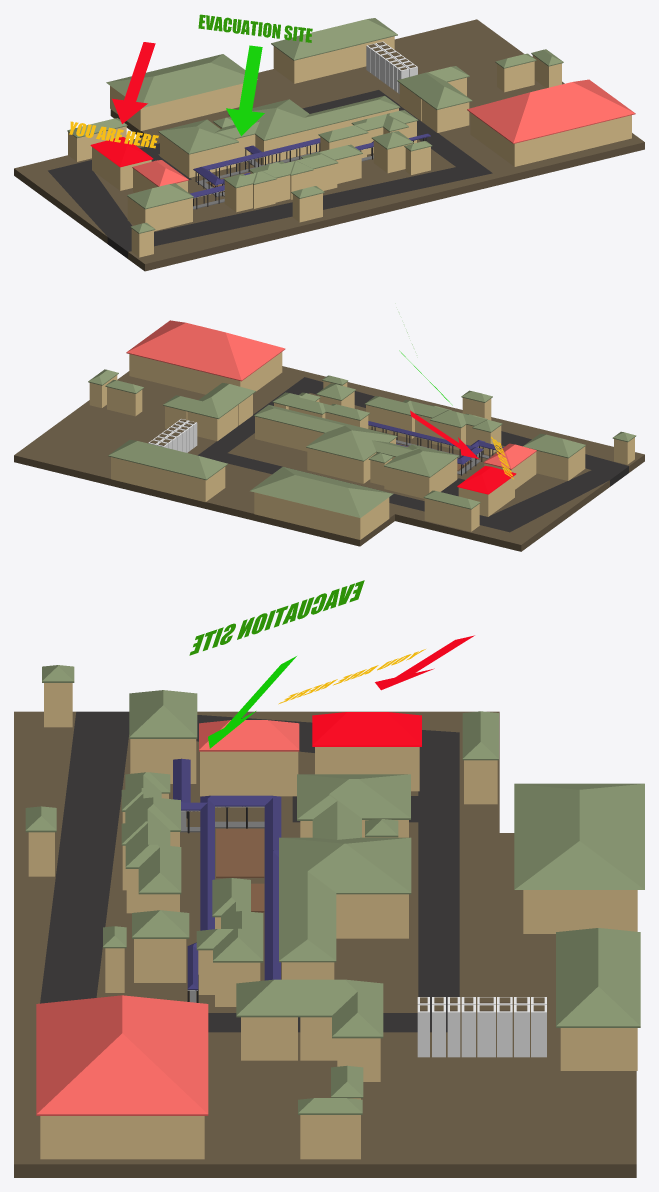
The model's file is ITBUILDING.glb.
The picture shows the model from 3 angles, top to bottom: view 1: azimuth 30°, elevation 25°; view 2: azimuth 150°, elevation 25°; view 3: azimuth 270°, elevation 25°; orthographic projection. The views are drawn at different scales.
Parts seen in each view (by area): view 1: Toposolid Grassland - 1200mm [352516], Toposolid Grassland - 1200mm [354195], Basic Roof Generic - 125mm [387914], Basic Roof Generic - 125mm [384035], Basic Roof Generic - 125mm [378573], Basic Wall Generic - 200mm [355787], Basic Roof Generic - 125mm [385592], Basic Wall Generic - 200mm [355672], Basic Roof Generic - 125mm [385698], Basic Wall Generic - 200mm [355773], Basic Roof Generic - 125mm [387351], Plane.001 (+37 smaller); view 2: Toposolid Grassland - 1200mm [352516], Toposolid Grassland - 1200mm [354195], Basic Roof Generic - 125mm [387914], Basic Roof Generic - 125mm [384035], Basic Roof Generic - 125mm [378573], Basic Wall Generic - 200mm [355757], Basic Roof Generic - 125mm [385592], Basic Wall Generic - 200mm [355771], Basic Wall Generic - 200mm [355789], Basic Roof Generic - 125mm [385698], Basic Roof Generic - 125mm [387351], Basic Wall Generic - 200mm [357221] (+25 smaller); view 3: Toposolid Grassland - 1200mm [352516], Toposolid Grassland - 1200mm [354195], Basic Roof Generic - 125mm [387914], Basic Roof Generic - 125mm [384035], Basic Roof Generic - 125mm [378573], Basic Roof Generic - 125mm [385592], Basic Wall Generic - 200mm [355788], Basic Roof Generic - 125mm [389243], Basic Roof Generic - 125mm [387351], Basic Roof Generic - 125mm [385698], Basic Wall Generic - 200mm [355719], Basic Wall Generic - 200mm [356699] (+29 smaller).
Part boxes in pixels (<box>): Toposolid Grassland - 1200mm [352516]: <box>14,19,644,271</box>; Toposolid Grassland - 1200mm [354195]: <box>48,90,492,258</box>; Basic Roof Generic - 125mm [387914]: <box>467,79,635,143</box>; Basic Roof Generic - 125mm [384035]: <box>158,96,400,154</box>; Basic Roof Generic - 125mm [378573]: <box>106,54,257,107</box>; Basic Wall Generic - 200mm [355787]: <box>516,115,631,166</box>; Basic Roof Generic - 125mm [385592]: <box>271,18,397,60</box>; Basic Wall Generic - 200mm [355672]: <box>142,83,243,130</box>; Basic Roof Generic - 125mm [385698]: <box>223,144,362,188</box>; Basic Wall Generic - 200mm [355773]: <box>295,36,394,83</box>; Basic Roof Generic - 125mm [387351]: <box>397,66,472,109</box>; Plane.001: <box>226,45,264,136</box>; Toposolid Grassland - 1200mm [352516]: <box>14,366,644,551</box>; Toposolid Grassland - 1200mm [354195]: <box>197,377,628,532</box>; Basic Roof Generic - 125mm [387914]: <box>126,320,285,381</box>; Basic Roof Generic - 125mm [384035]: <box>254,405,458,477</box>; Basic Roof Generic - 125mm [378573]: <box>250,467,393,517</box>; Basic Wall Generic - 200mm [355757]: <box>255,492,359,539</box>; Basic Roof Generic - 125mm [385592]: <box>108,440,227,480</box>; Basic Wall Generic - 200mm [355771]: <box>112,457,206,502</box>; Basic Wall Generic - 200mm [355789]: <box>130,354,240,394</box>; Basic Roof Generic - 125mm [385698]: <box>364,396,502,432</box>; Basic Roof Generic - 125mm [387351]: <box>163,383,255,418</box>; Basic Wall Generic - 200mm [357221]: <box>255,416,323,451</box>; Toposolid Grassland - 1200mm [352516]: <box>14,711,636,1177</box>; Toposolid Grassland - 1200mm [354195]: <box>40,711,459,1032</box>; Basic Roof Generic - 125mm [387914]: <box>36,995,208,1115</box>; Basic Roof Generic - 125mm [384035]: <box>279,774,411,962</box>; Basic Roof Generic - 125mm [378573]: <box>514,783,644,889</box>; Basic Roof Generic - 125mm [385592]: <box>556,928,640,1027</box>; Basic Wall Generic - 200mm [355788]: <box>43,1116,204,1159</box>; Basic Roof Generic - 125mm [389243]: <box>173,758,281,990</box>; Basic Roof Generic - 125mm [387351]: <box>236,979,383,1038</box>; Basic Roof Generic - 125mm [385698]: <box>121,772,181,894</box>; Basic Wall Generic - 200mm [355719]: <box>525,890,637,933</box>; Basic Wall Generic - 200mm [356699]: <box>202,751,298,796</box>.
Bounding box in the file's own units: 86 × 25.27 × 50.68.
